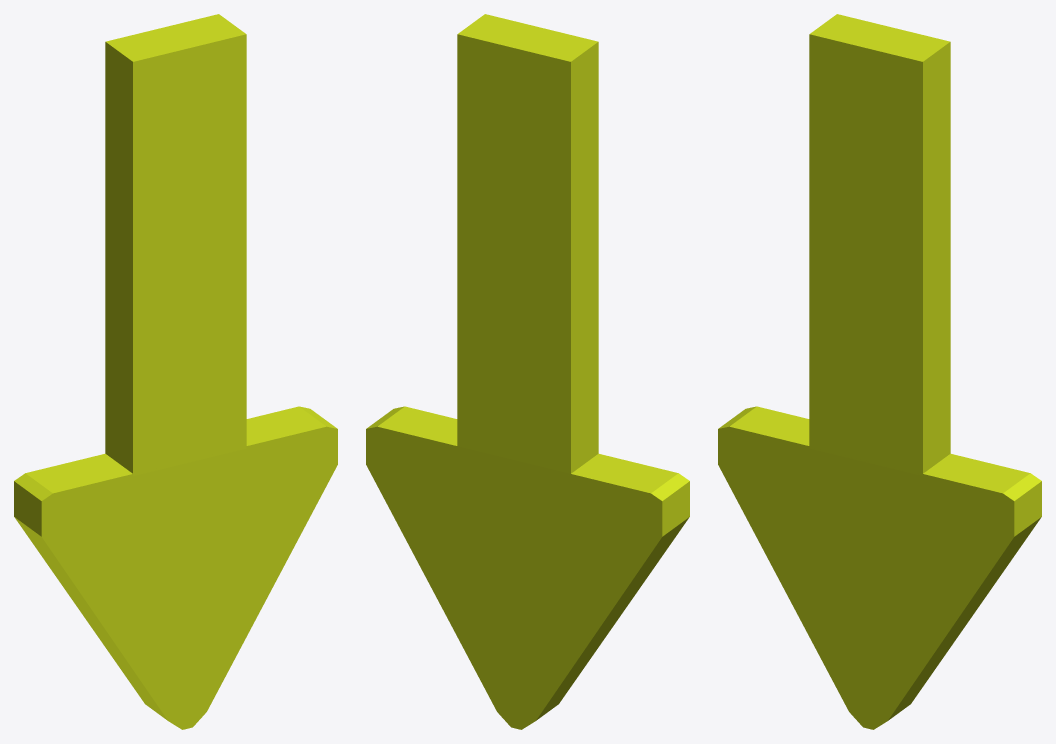
The model's file is SetaPraBaixo.fbx.
The picture shows the model from 3 angles, left to right: view 1: azimuth 30°, elevation 25°; view 2: azimuth 150°, elevation 25°; view 3: azimuth 330°, elevation 25°; orthographic projection.
Parts seen in each view (by area): view 1: Cube; view 2: Cube; view 3: Cube.
Part boxes in pixels (x1,y1,x2,y2): Cube: (14, 14, 337, 729); Cube: (366, 14, 689, 729); Cube: (718, 14, 1041, 729).
Size of the model in its own units: 467 by 1028 by 75.53.
